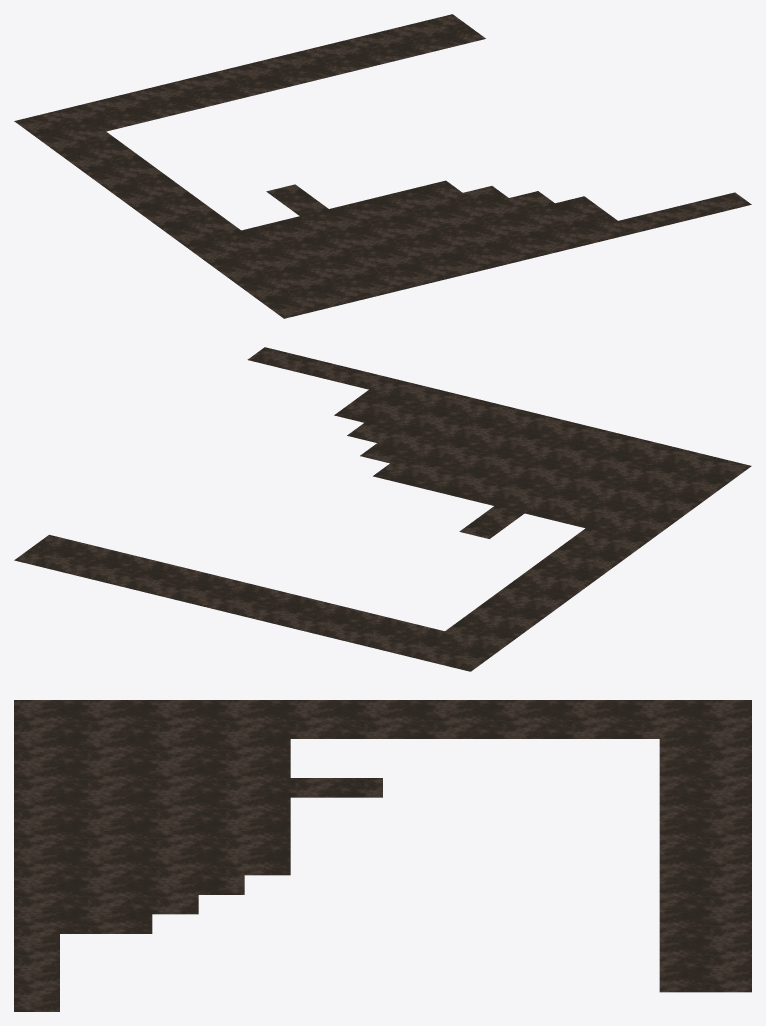
File: floor_0_-3.glb
3 views of the same model, one above another, from view 1: azimuth 30°, elevation 25°; view 2: azimuth 150°, elevation 25°; view 3: azimuth 270°, elevation 25° (orthographic). The views are drawn at different scales.
Parts seen in each view (by area): view 1: floor_0_-3; view 2: floor_0_-3; view 3: floor_0_-3.
Part boxes in pixels (left/top/right/bottom): floor_0_-3: left=14, top=14, right=751, bottom=318; floor_0_-3: left=14, top=347, right=751, bottom=671; floor_0_-3: left=14, top=700, right=751, bottom=1011.
Size of the model in its own units: 64 by 0 by 64.
1 material, 1 textured.
